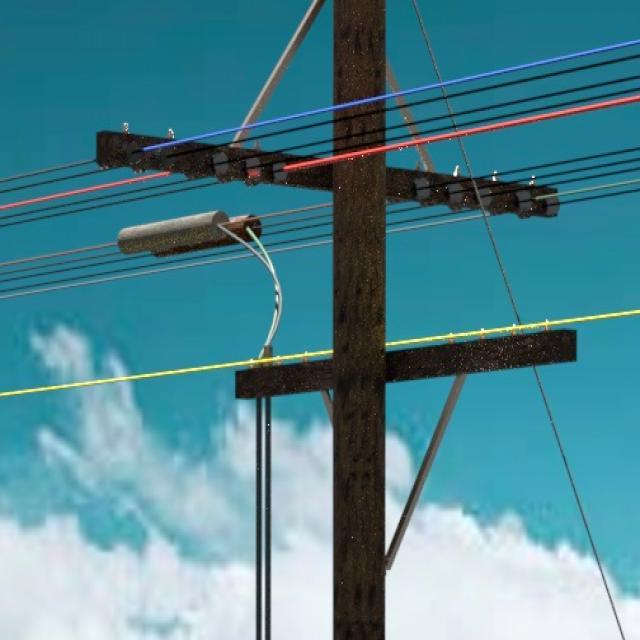crossarm: (97, 131, 562, 218), (234, 332, 578, 405), (234, 0, 326, 143)
pole: (332, 0, 385, 640)
